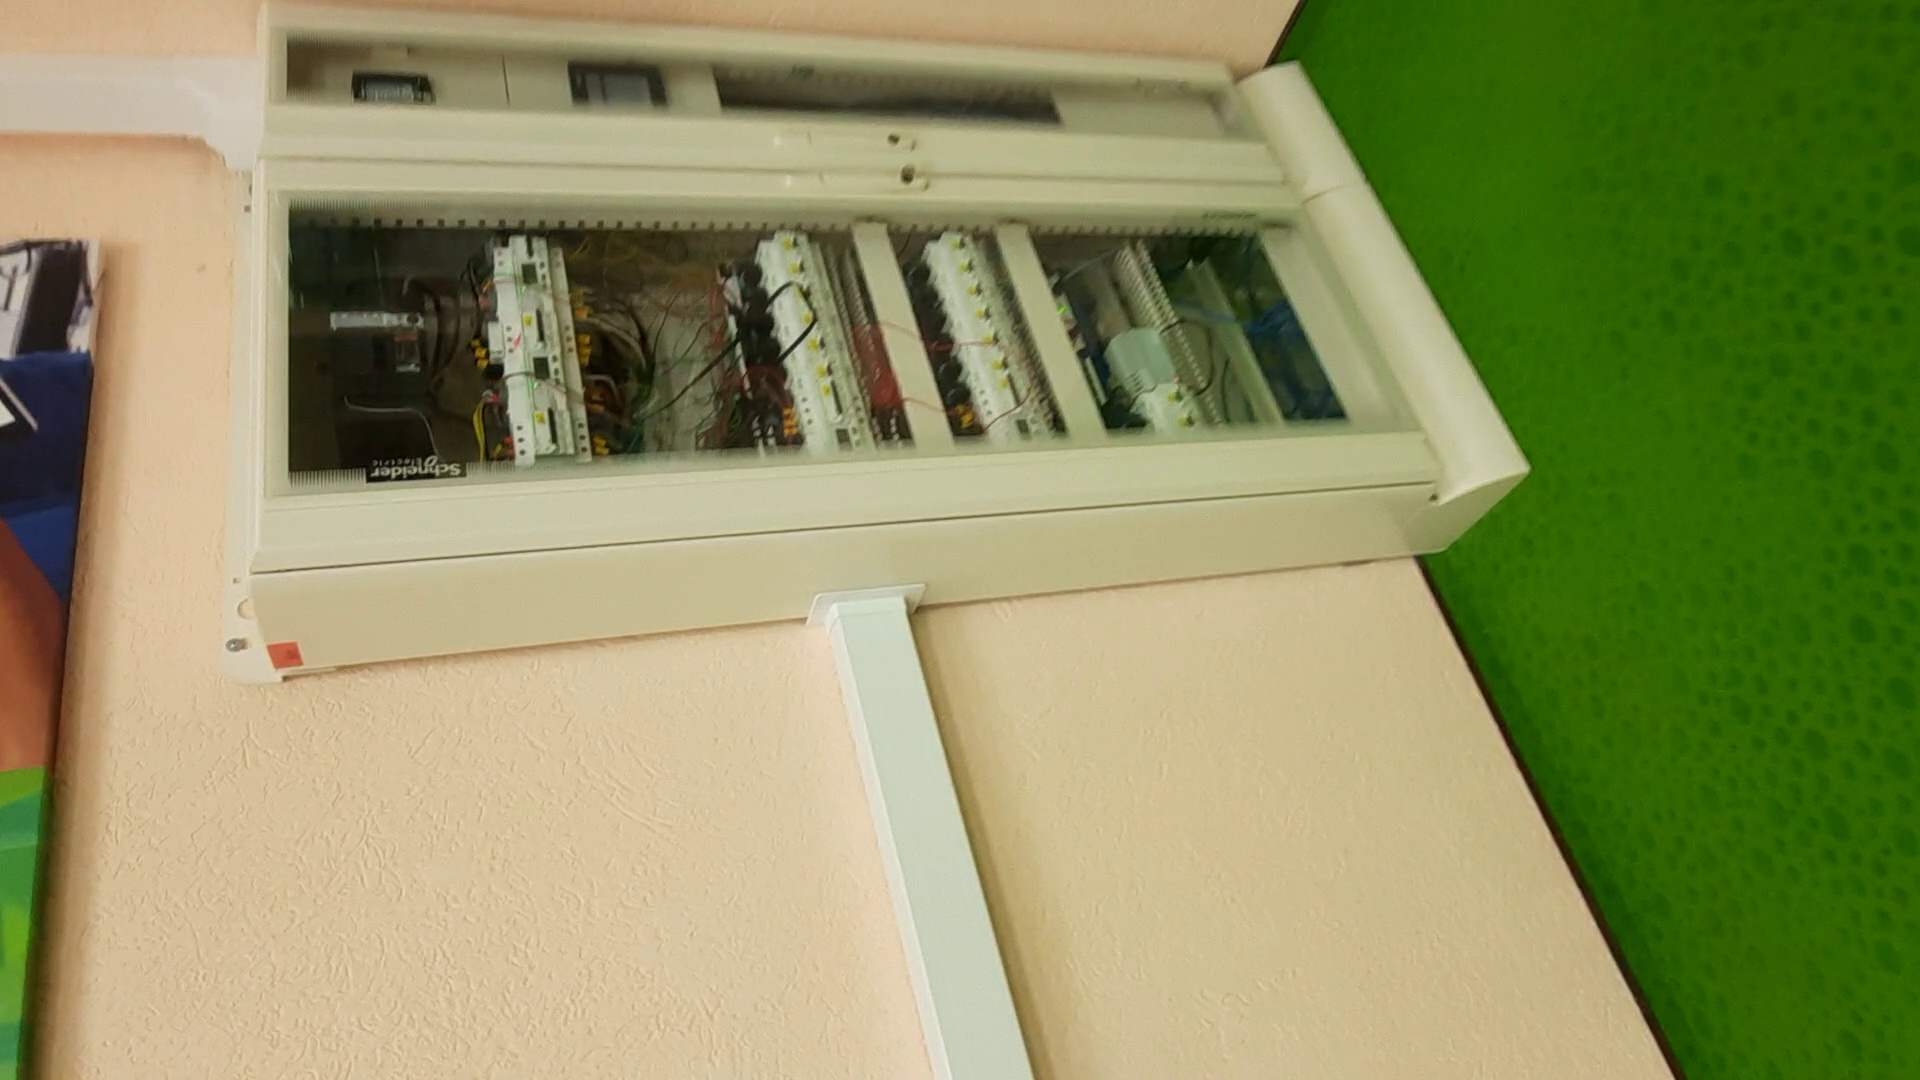stand1: (233, 1, 1528, 640)
